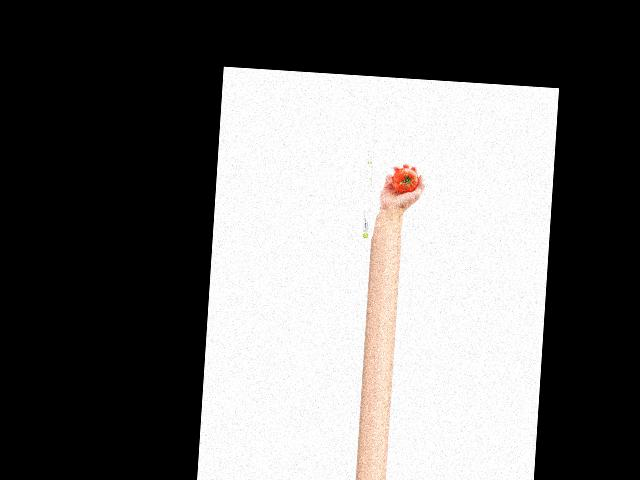tomato: (390, 166, 418, 193)
